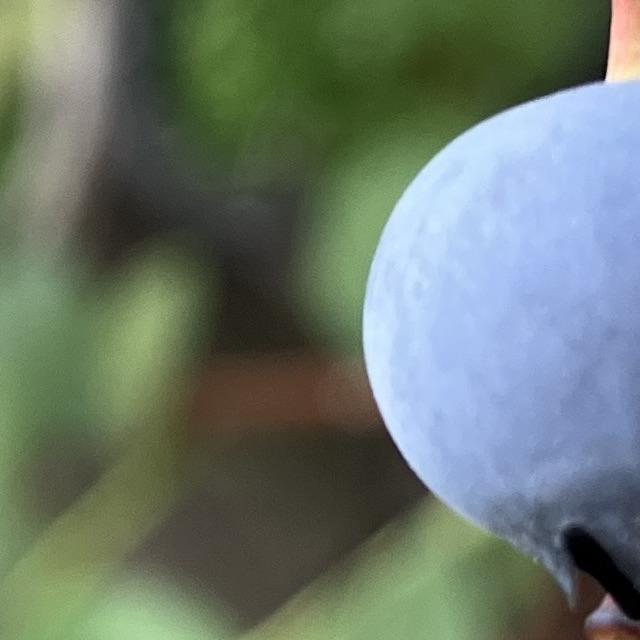Blueberries: (354, 67, 640, 639)
